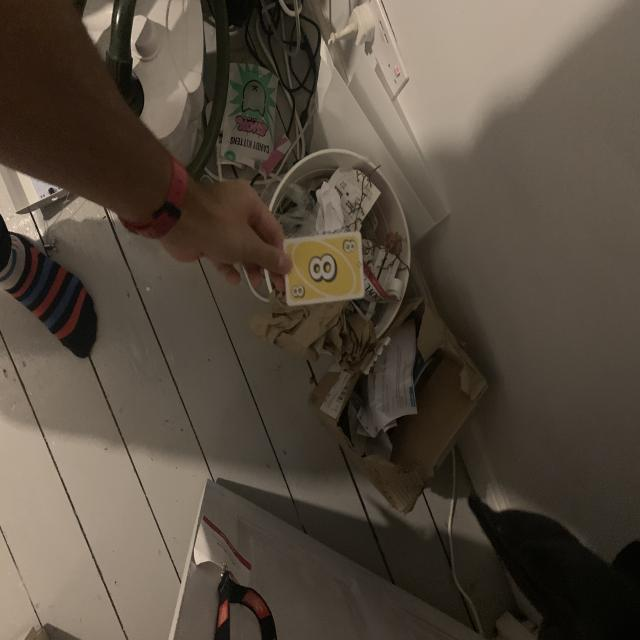lyellow-8: (342, 237, 358, 257)
